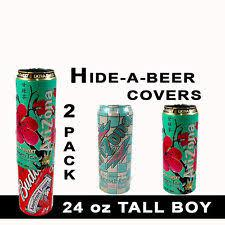beer: (96, 103, 135, 194), (160, 103, 199, 194)
